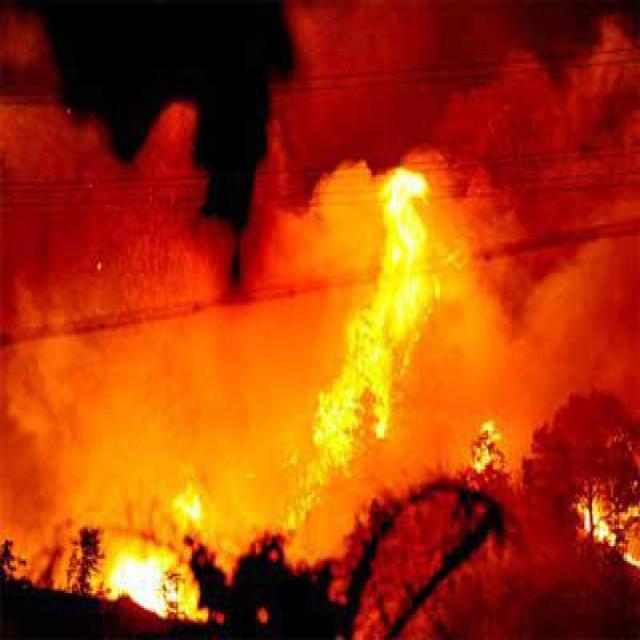fire: (287, 153, 458, 498), (80, 470, 234, 620), (562, 458, 637, 554), (472, 407, 517, 494)
